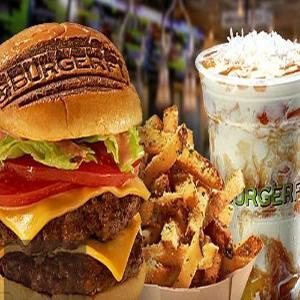cheeseburger_475cal: (1, 19, 145, 300)
fries_350cal: (144, 102, 267, 299)
